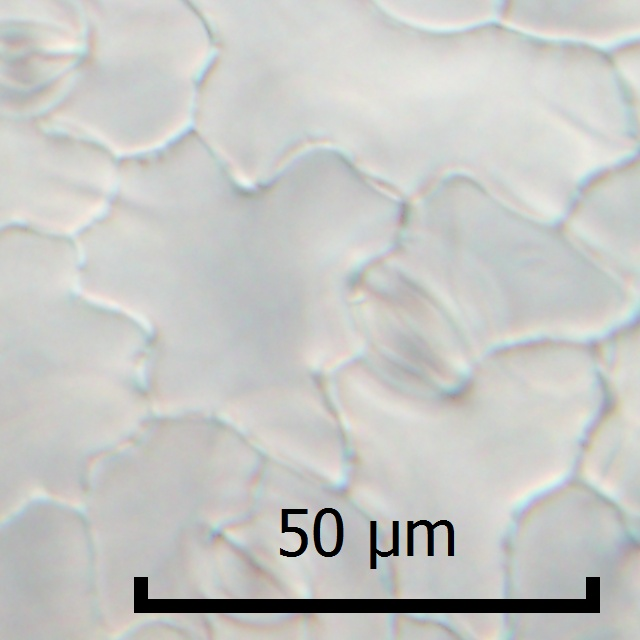center: (380, 289, 462, 358), (221, 533, 287, 593), (18, 53, 72, 67), (409, 14, 470, 19)
stomata-huw1: (341, 238, 503, 402), (181, 493, 319, 631), (0, 1, 90, 119), (371, 0, 508, 33)
